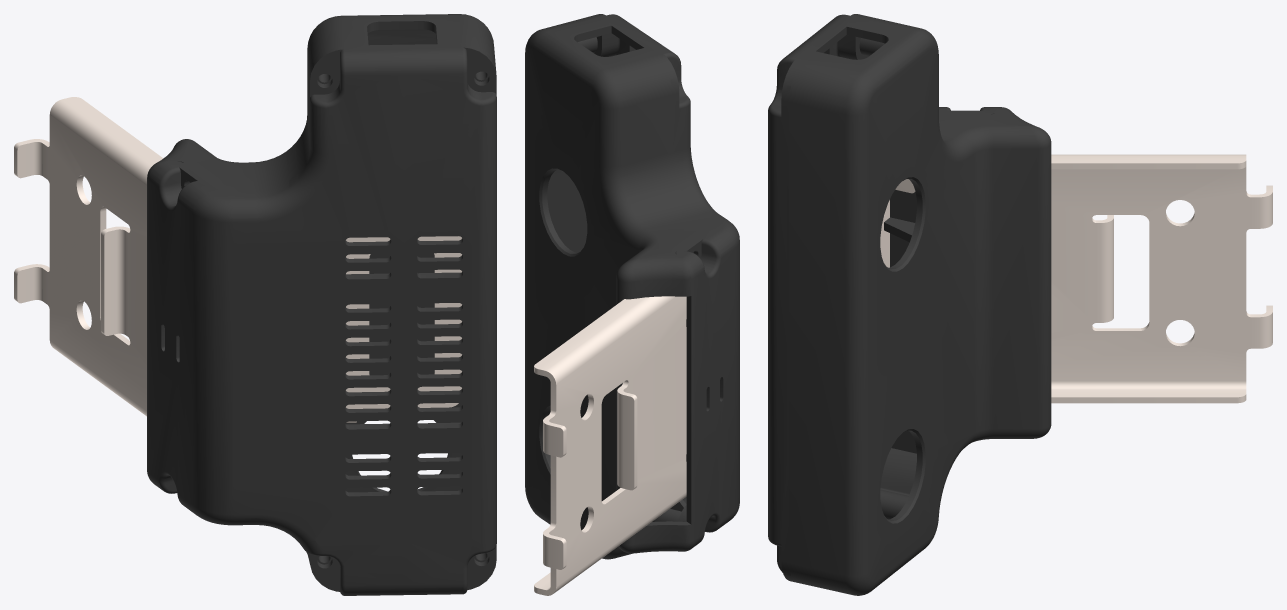
File: zed_mount.dae
3 renders of one model, left to right at view 1: azimuth 30°, elevation 25°; view 2: azimuth 150°, elevation 25°; view 3: azimuth 270°, elevation 25°, orthographic. The views are drawn at different scales.
Visible parts, largest first — view 1: node0, node3; view 2: node0, node3; view 3: node0, node3.
Part boxes in pixels (x1=…): node0: x1=147, y1=14, x2=496, y2=595; node3: x1=14, y1=97, x2=461, y2=416; node0: x1=525, y1=14, x2=739, y2=559; node3: x1=534, y1=296, x2=686, y2=595; node0: x1=768, y1=14, x2=1051, y2=595; node3: x1=880, y1=154, x2=1272, y2=403.
Size of the model in its own units: 0.0665 by 0.1302 by 0.1144.
